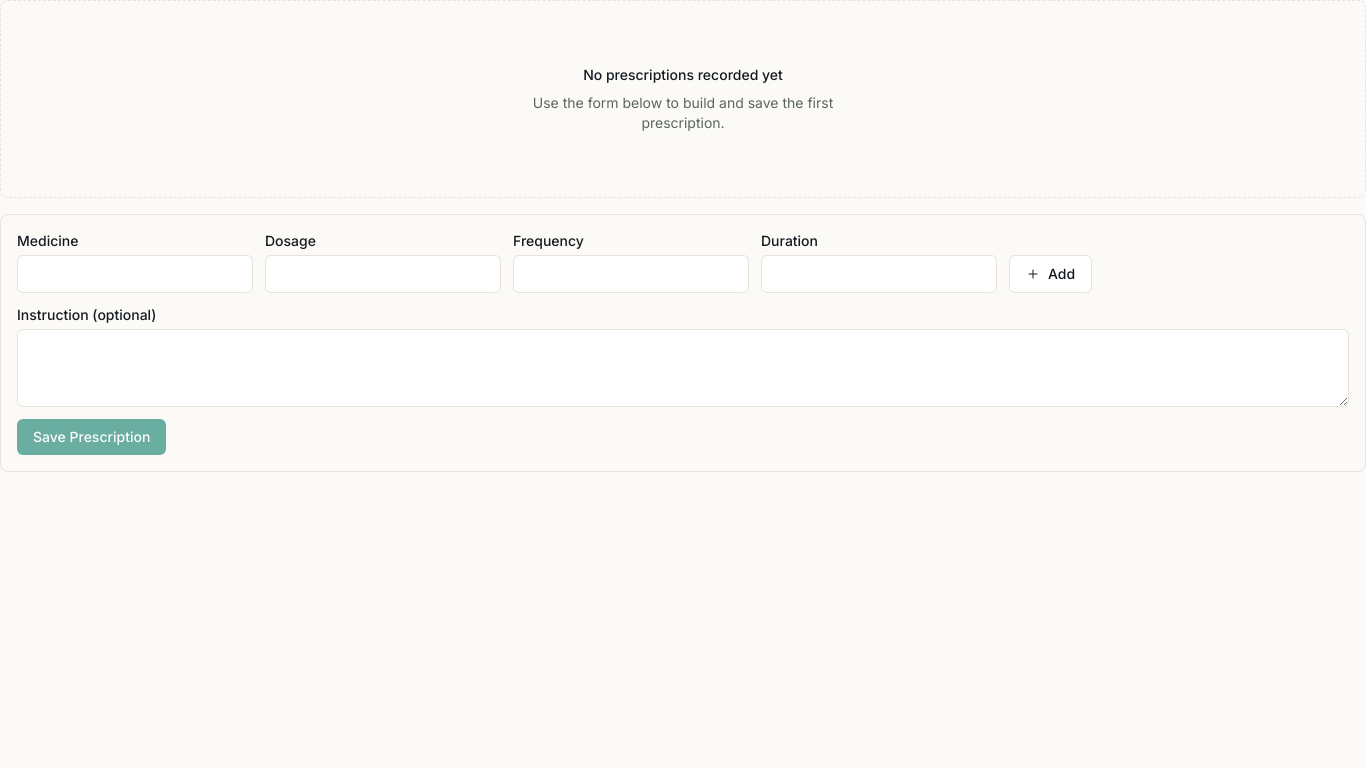
Test: PrescriptionSection › shows the backend's allergy-conflict error when saving fails
Expected: the text "No prescriptions recorded yet" is shown, x1=583 y1=65 x2=783 y2=85
Type "Amoxicillin" into the field labelled "Medicine". click: [135, 274]
box: x1=17 y1=255 x2=253 y2=293
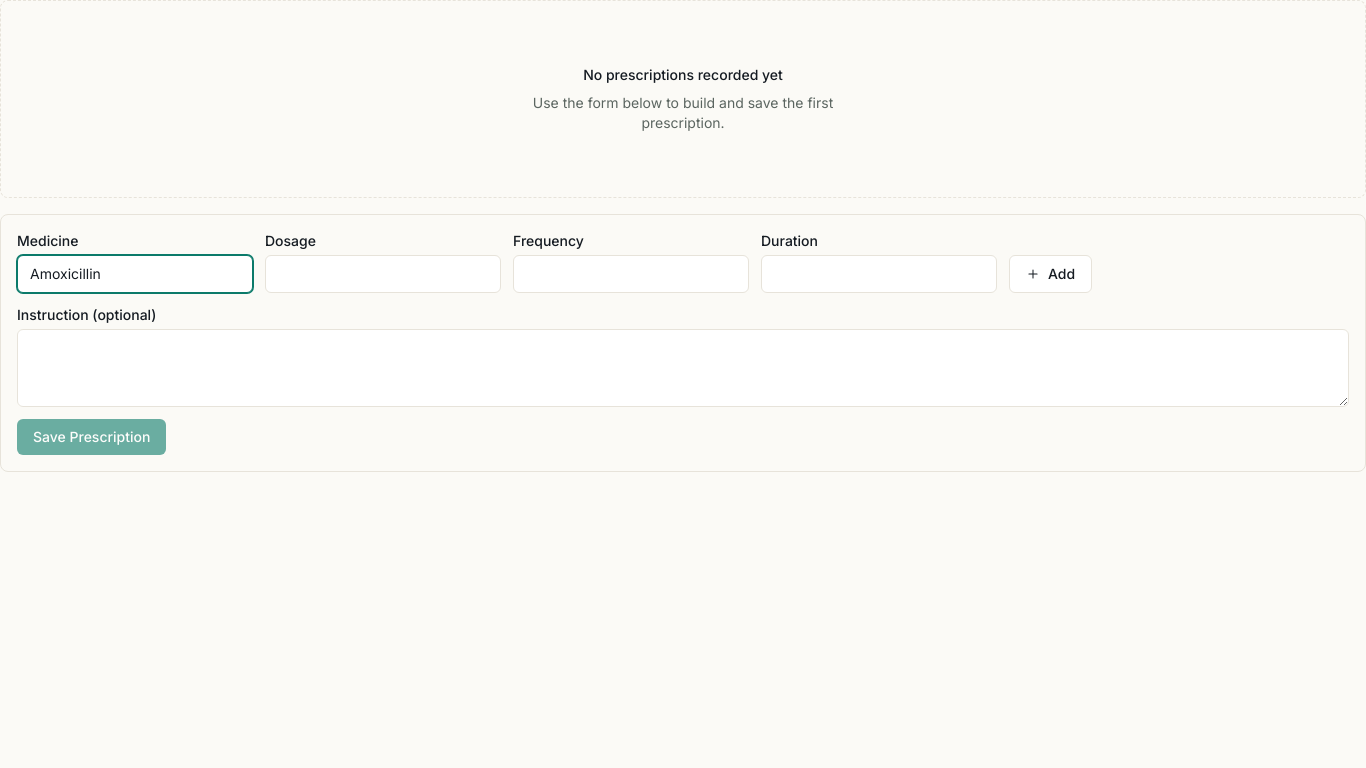
Type "500mg" into the field labelled "Dosage". click: [383, 274]
box: x1=265 y1=255 x2=501 y2=293
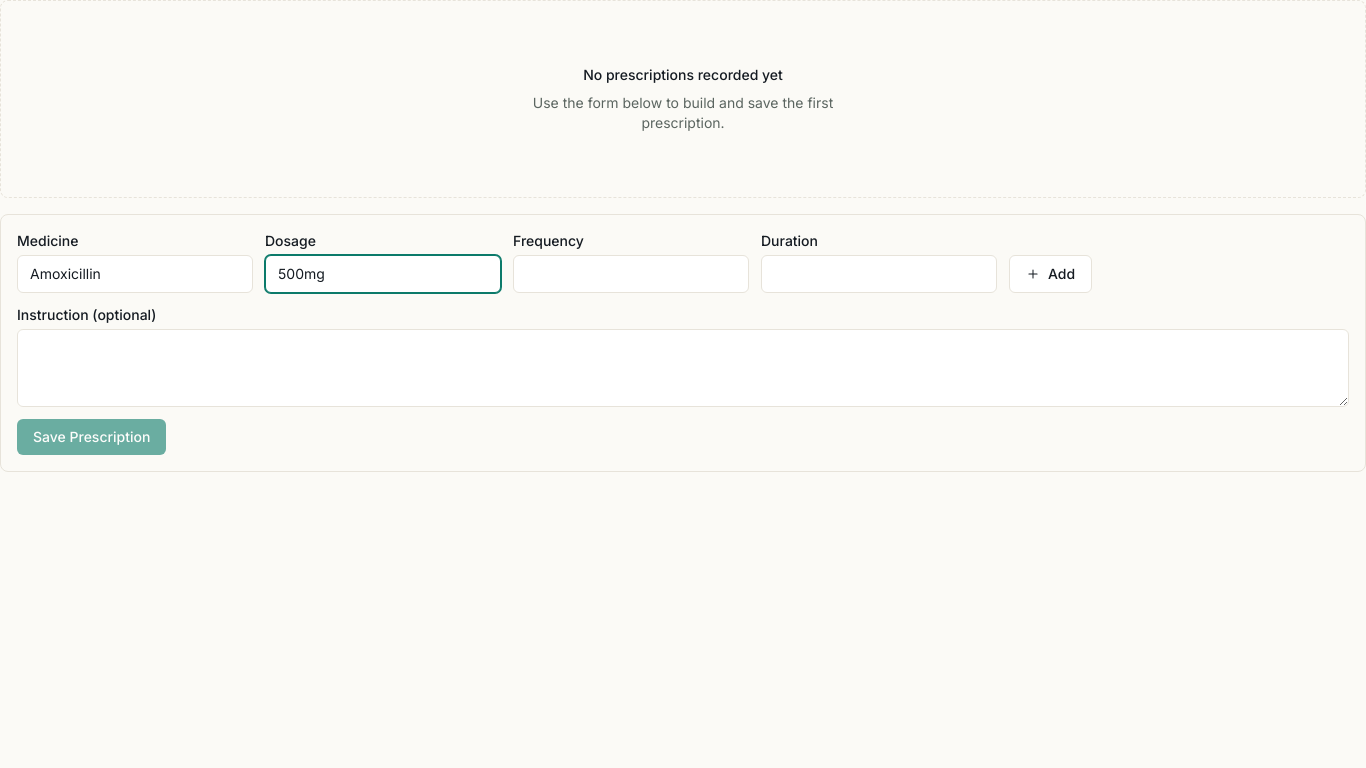
Type "3x daily" into the field labelled "Frequency". click: [631, 274]
box: x1=513 y1=255 x2=749 y2=293
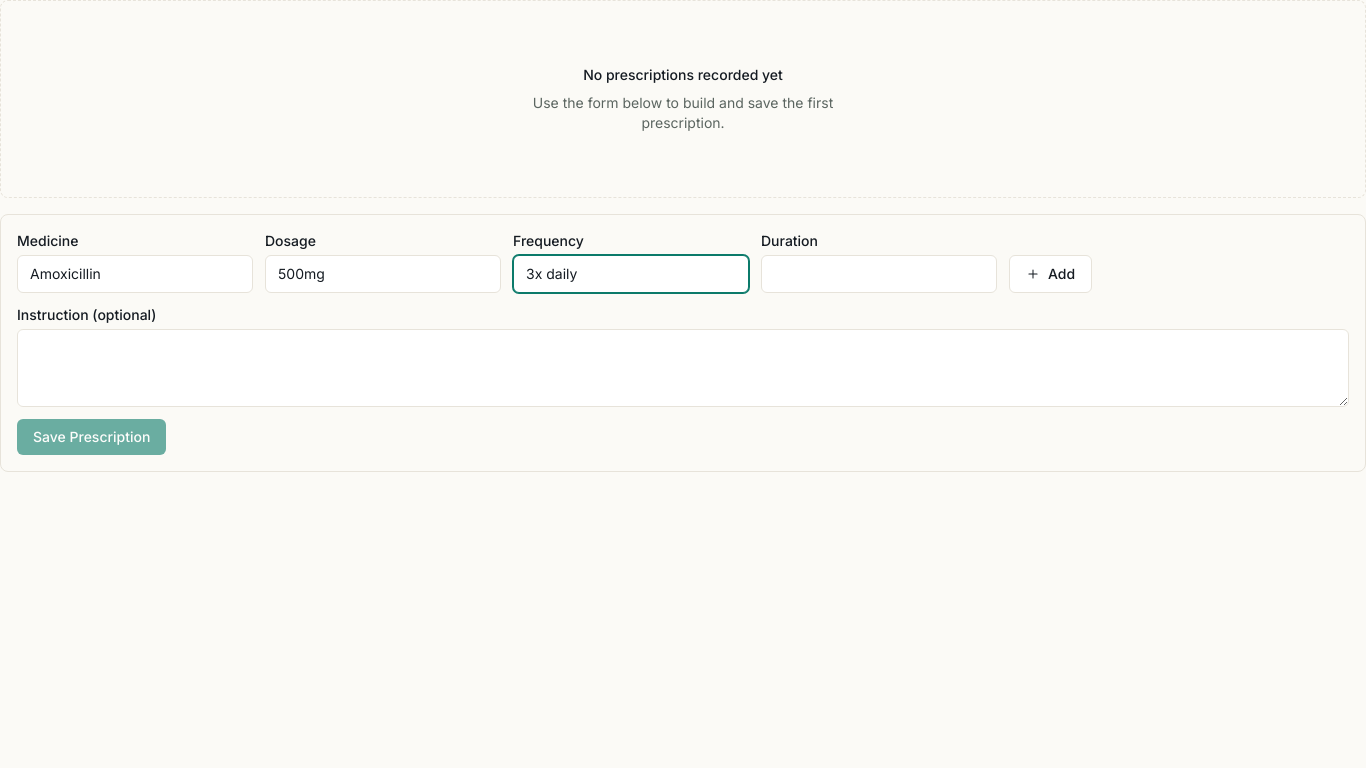
Type "5 days" into the field labelled "Duration". click: [879, 274]
box: x1=761 y1=255 x2=997 y2=293
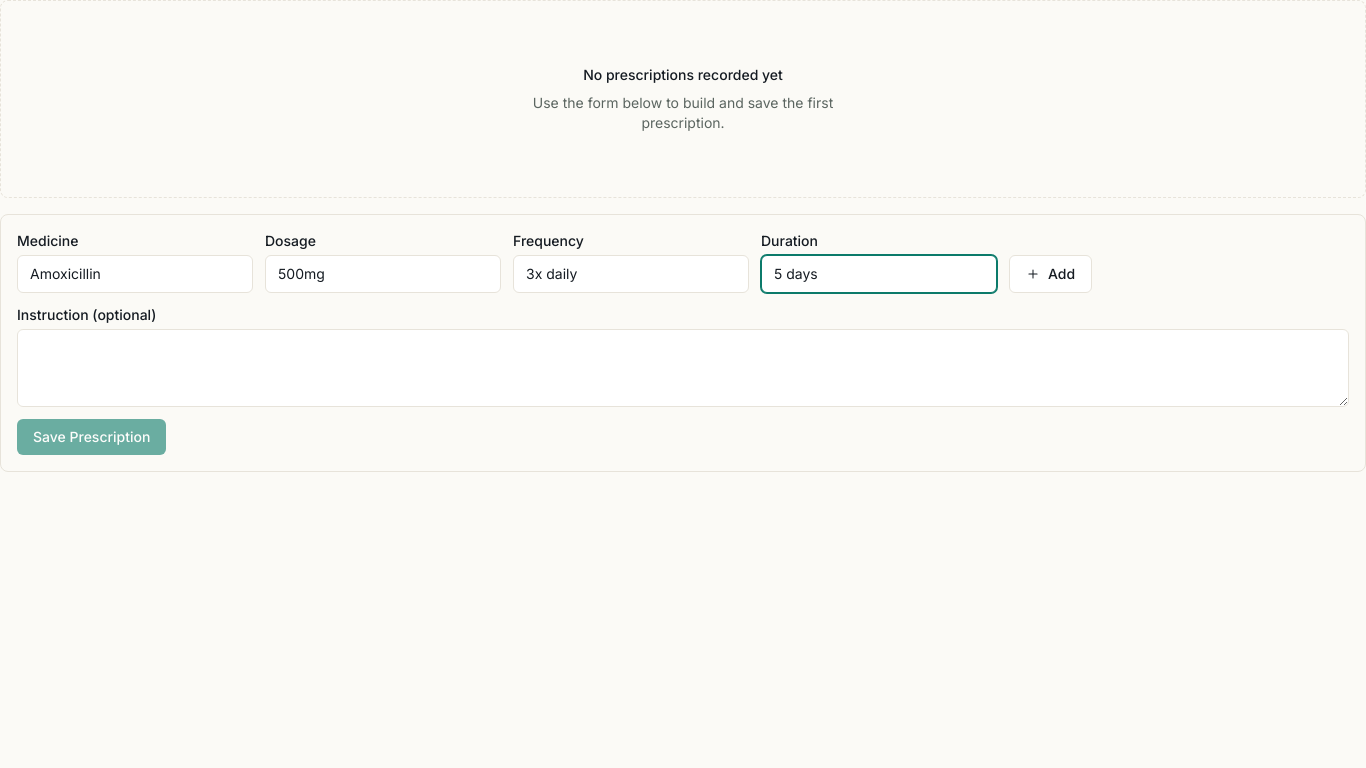
Click the button "Add". click: [1051, 274]
box: x1=1009 y1=255 x2=1092 y2=293
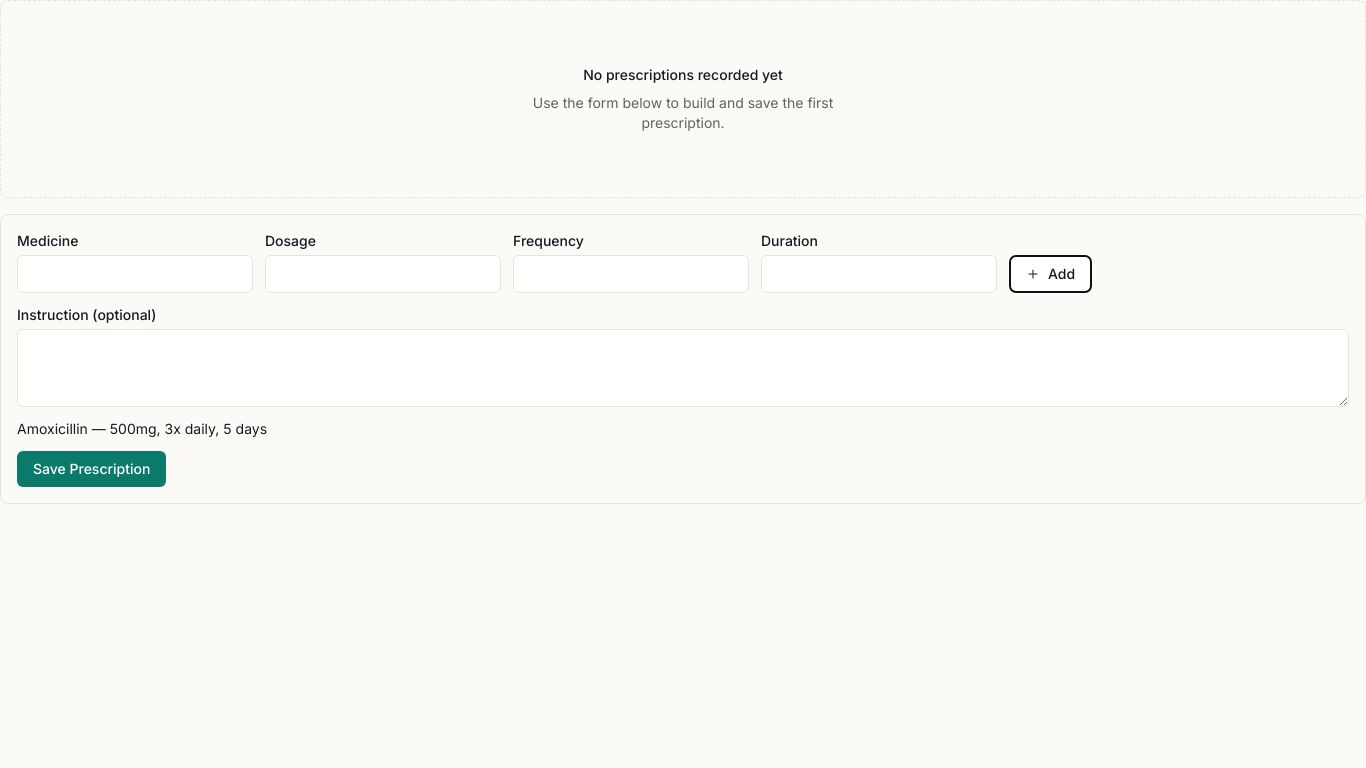
Click the button "Save Prescription". click: [92, 469]
box: x1=17 y1=451 x2=166 y2=487
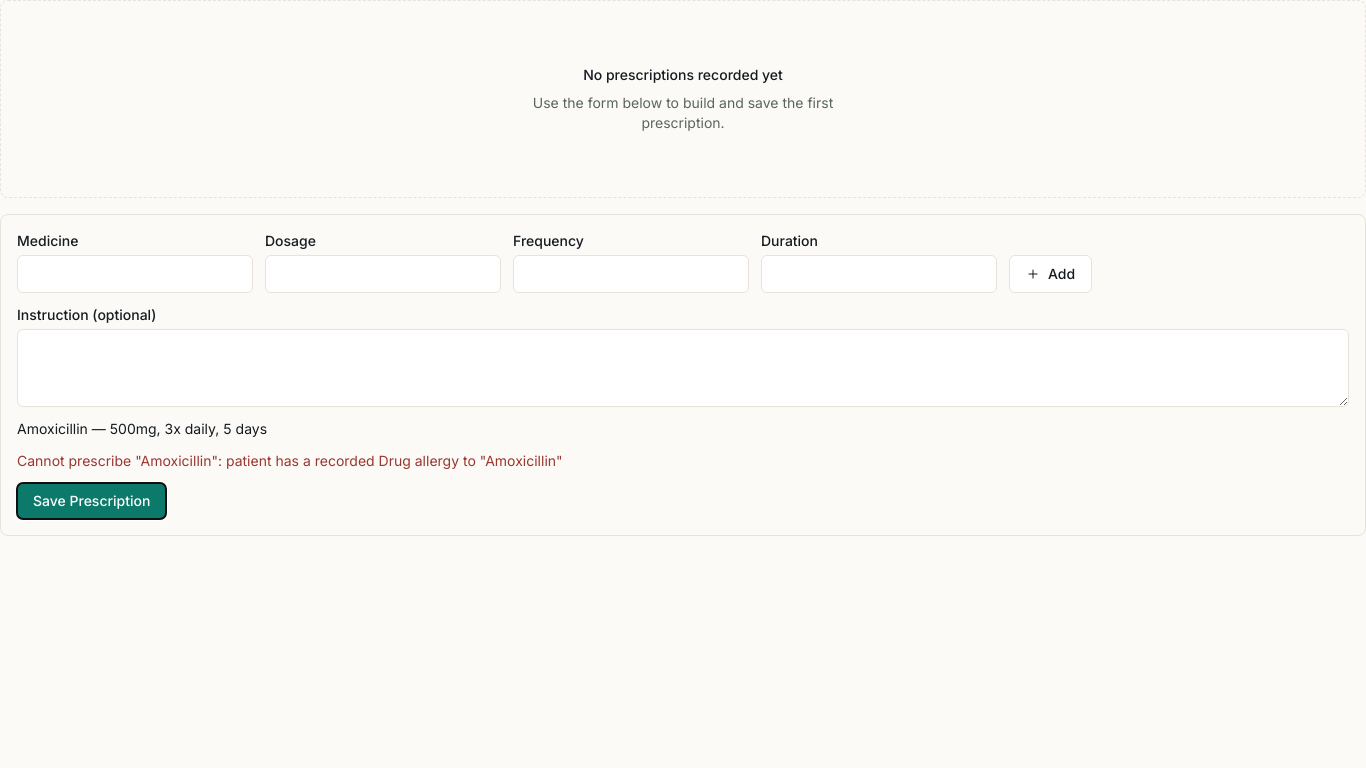
Expected: the message shows "Cannot prescribe", x1=17 y1=452 x2=563 y2=469
